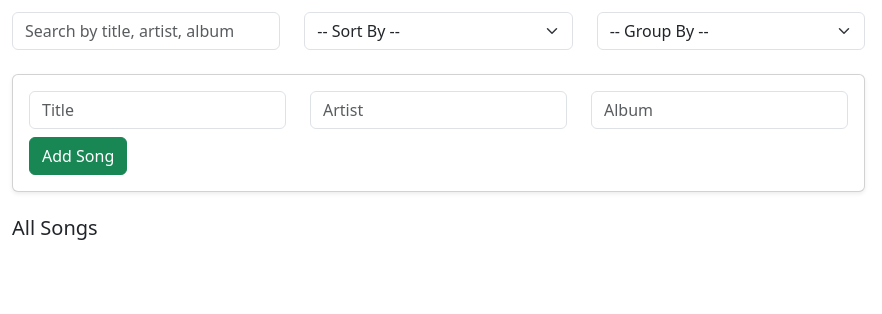
SongList Component › adds a new song when admin submits the form
Type "Test Song" into the field with placeholder "Title" at (158, 110), box [29,91,286,129]
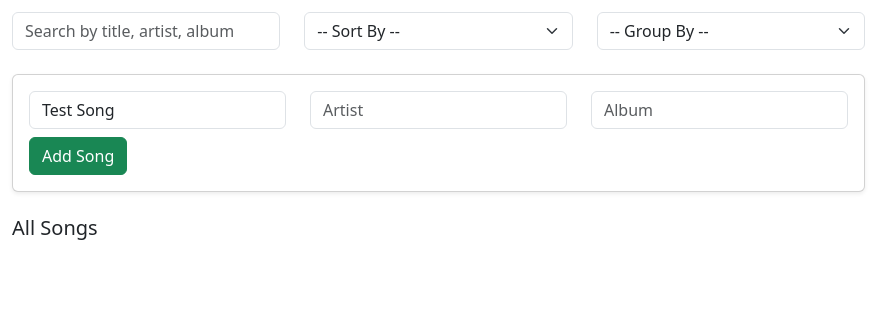
Type "Test Artist" into the field with placeholder "Artist" at (438, 110), box [310,91,567,129]
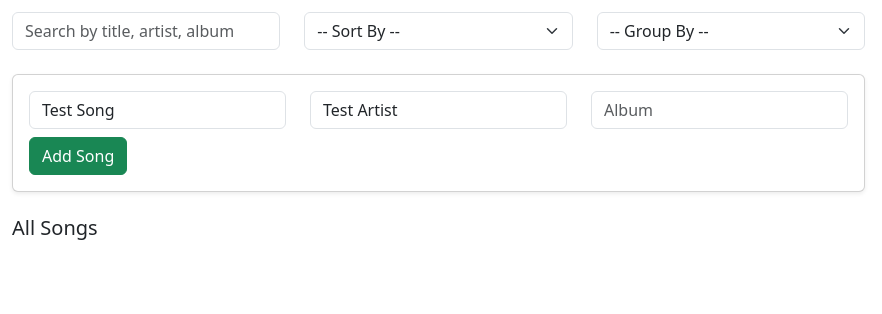
Type "Test Album" into the field with placeholder "Album" at (720, 110), box [591,91,848,129]
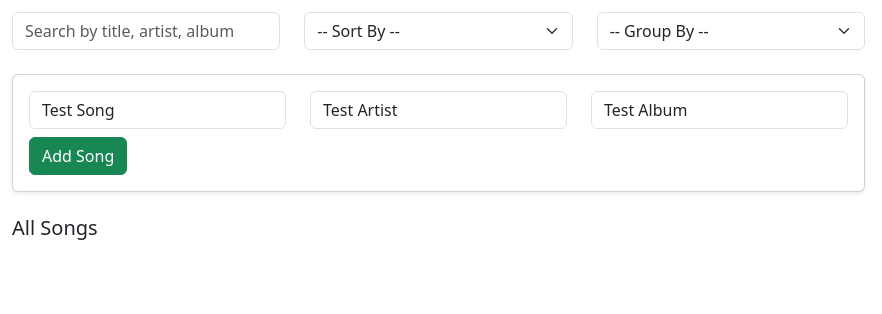
Click the button "Add Song" at (78, 156), box [29,137,127,175]
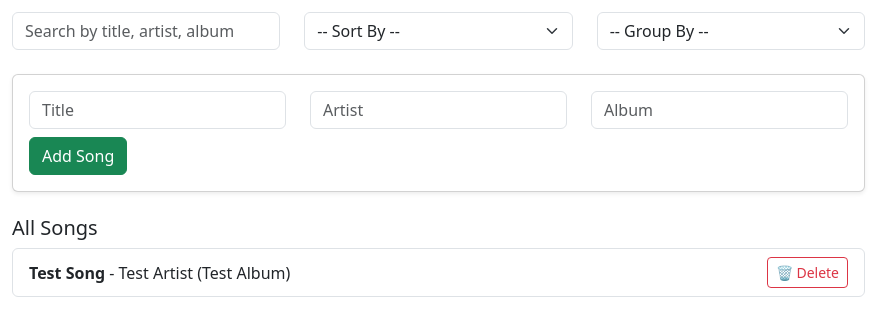
Check: the text "Test Song" is shown, box [29,262,105,284]
